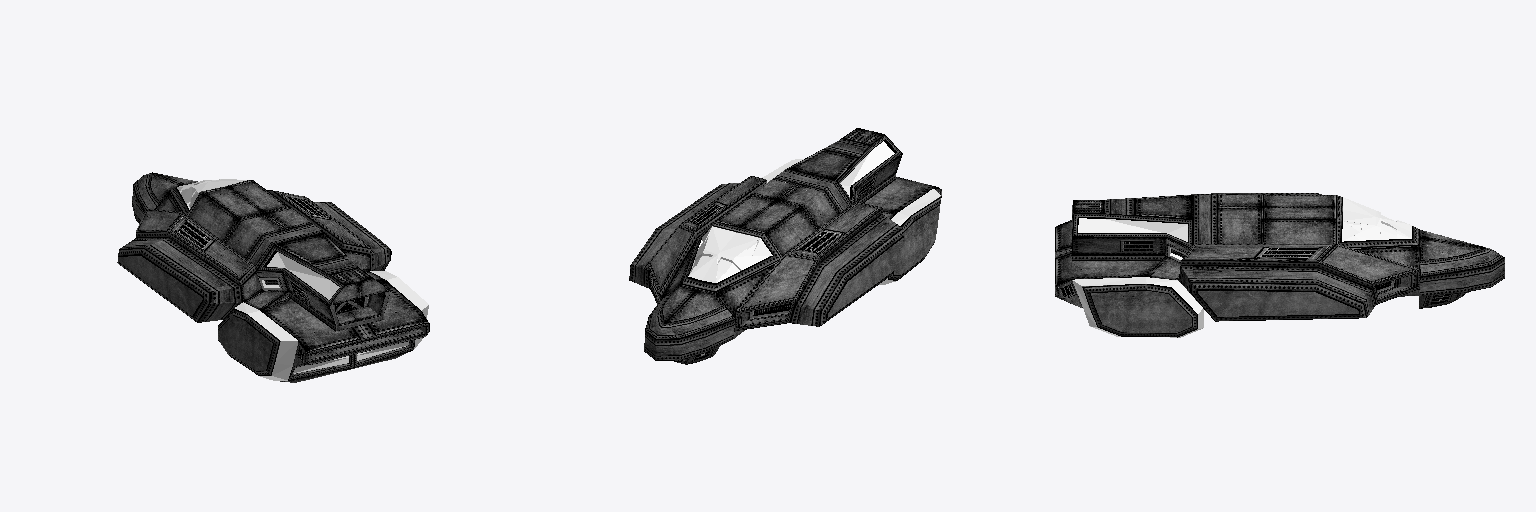
3 renders of one model, left to right at view 1: azimuth 30°, elevation 25°; view 2: azimuth 150°, elevation 25°; view 3: azimuth 270°, elevation 25°, orthographic.
Visible parts, largest first — view 1: SketchUp_ID3; view 2: SketchUp_ID3; view 3: SketchUp_ID3.
Boxes of the visible parts, <box> form: SketchUp_ID3: <box>117,172,429,382</box>; SketchUp_ID3: <box>629,128,941,364</box>; SketchUp_ID3: <box>1055,193,1504,337</box>.
Size of the model in its own units: 3.46 by 1.65 by 6.8.
7 materials, 1 textured.